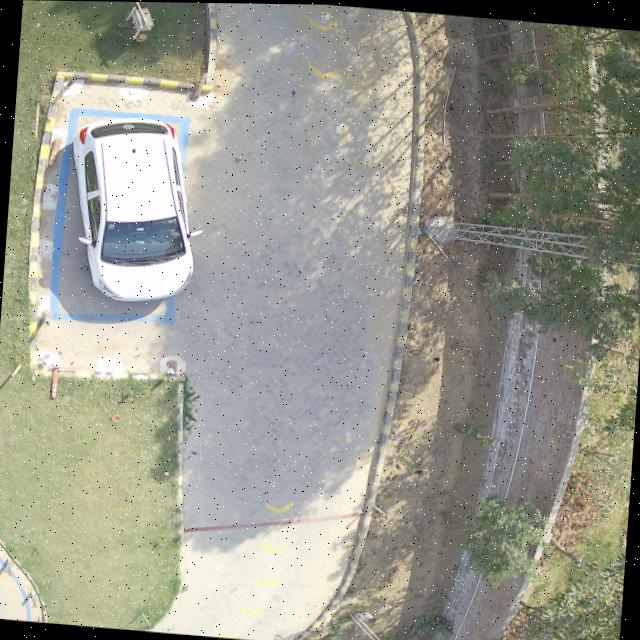car: (71, 117, 199, 302)
